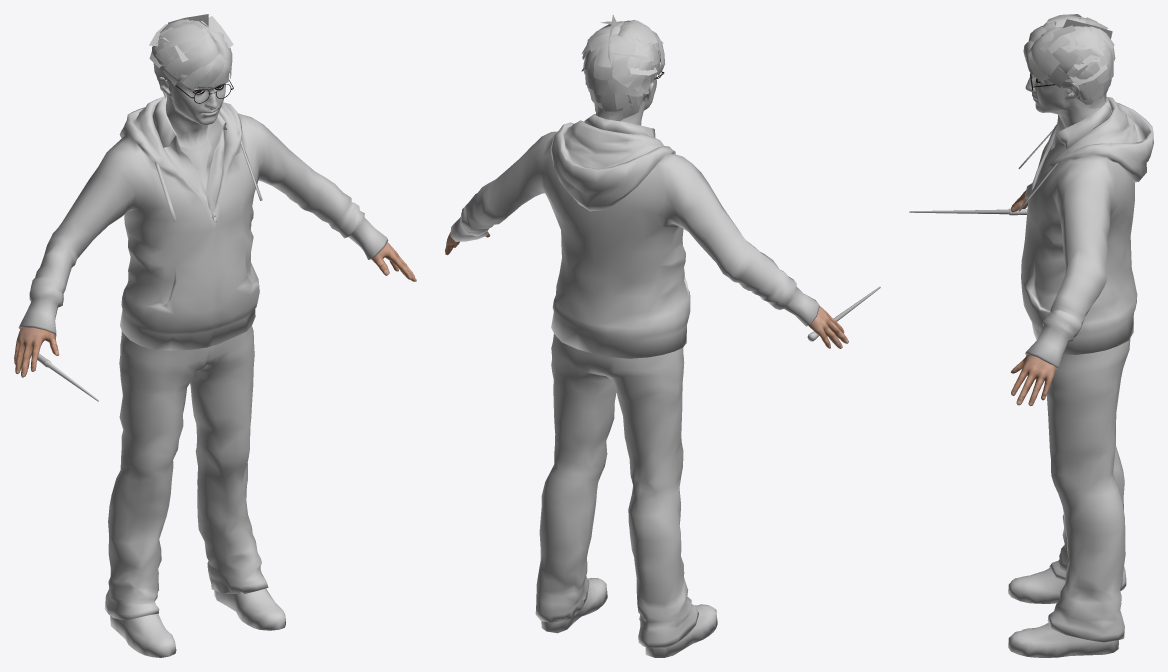
File: Harry_Potter.obj
3 views of the same model, side by side, from view 1: azimuth 30°, elevation 25°; view 2: azimuth 150°, elevation 25°; view 3: azimuth 270°, elevation 25° (orthographic).
Size of the model in its own units: 2.53 by 3.71 by 1.35.
